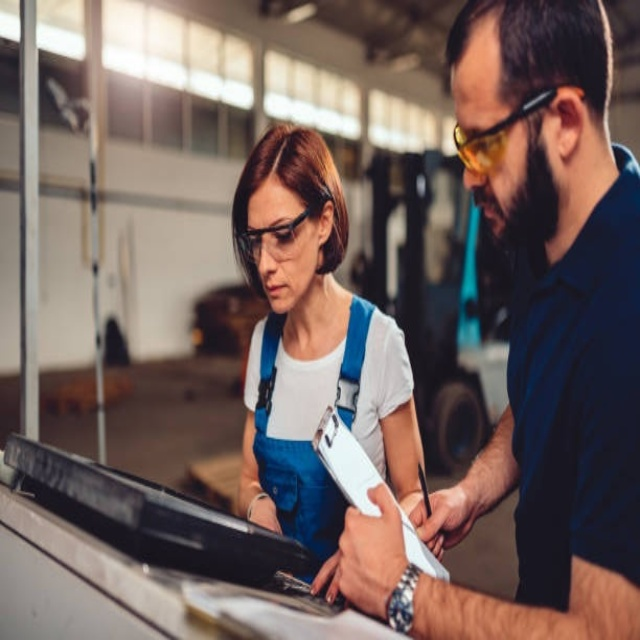Gafas: (453, 87, 581, 173), (237, 196, 323, 268)
Sin_guantes: (320, 488, 414, 621), (405, 483, 472, 552)
Sin_mascara: (471, 188, 513, 248), (260, 273, 293, 307)
